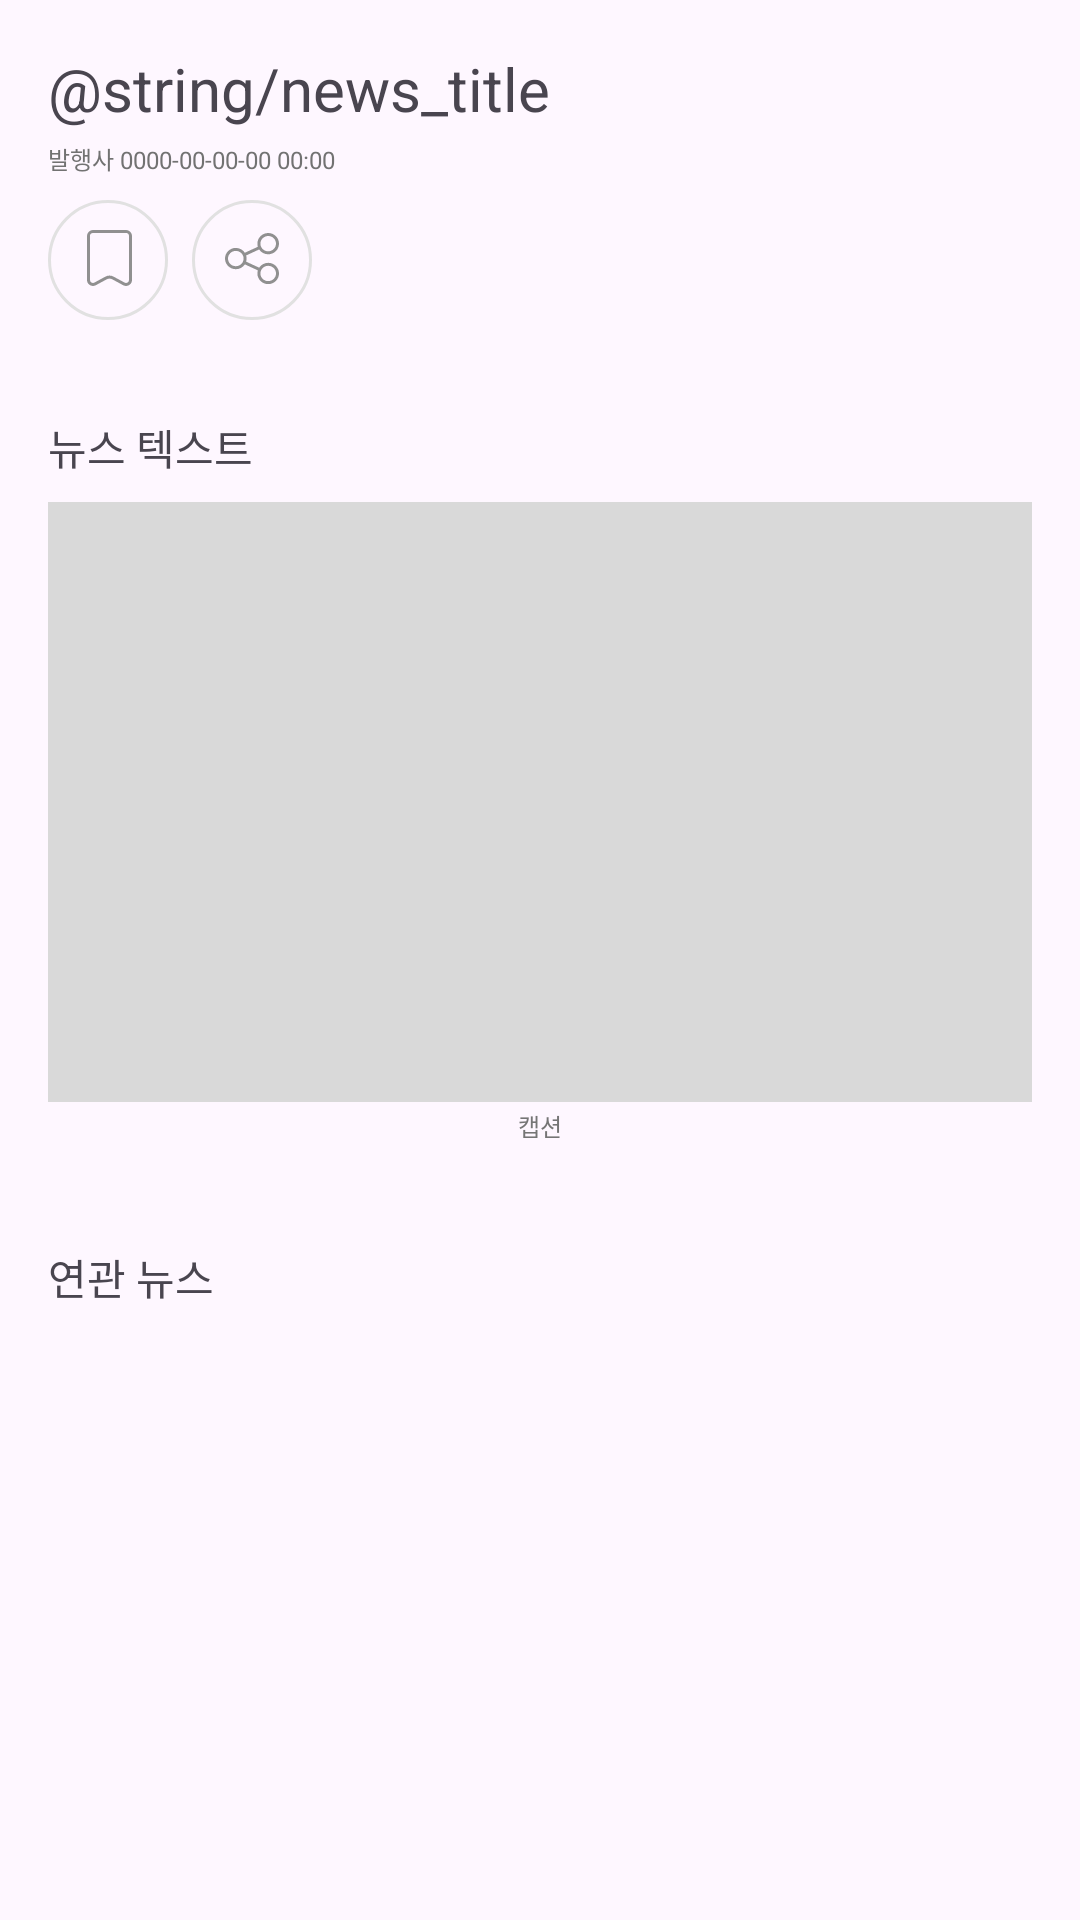

Point at icon controls on the screen. Image size 1080x1920, points as (x=x, y=y).
scrap: (x=108, y=260)
share: (x=252, y=260)
